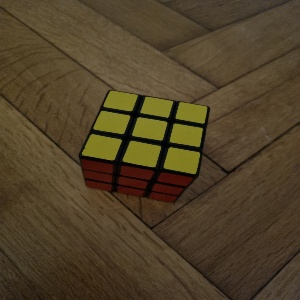cube: (78, 90, 211, 203)
